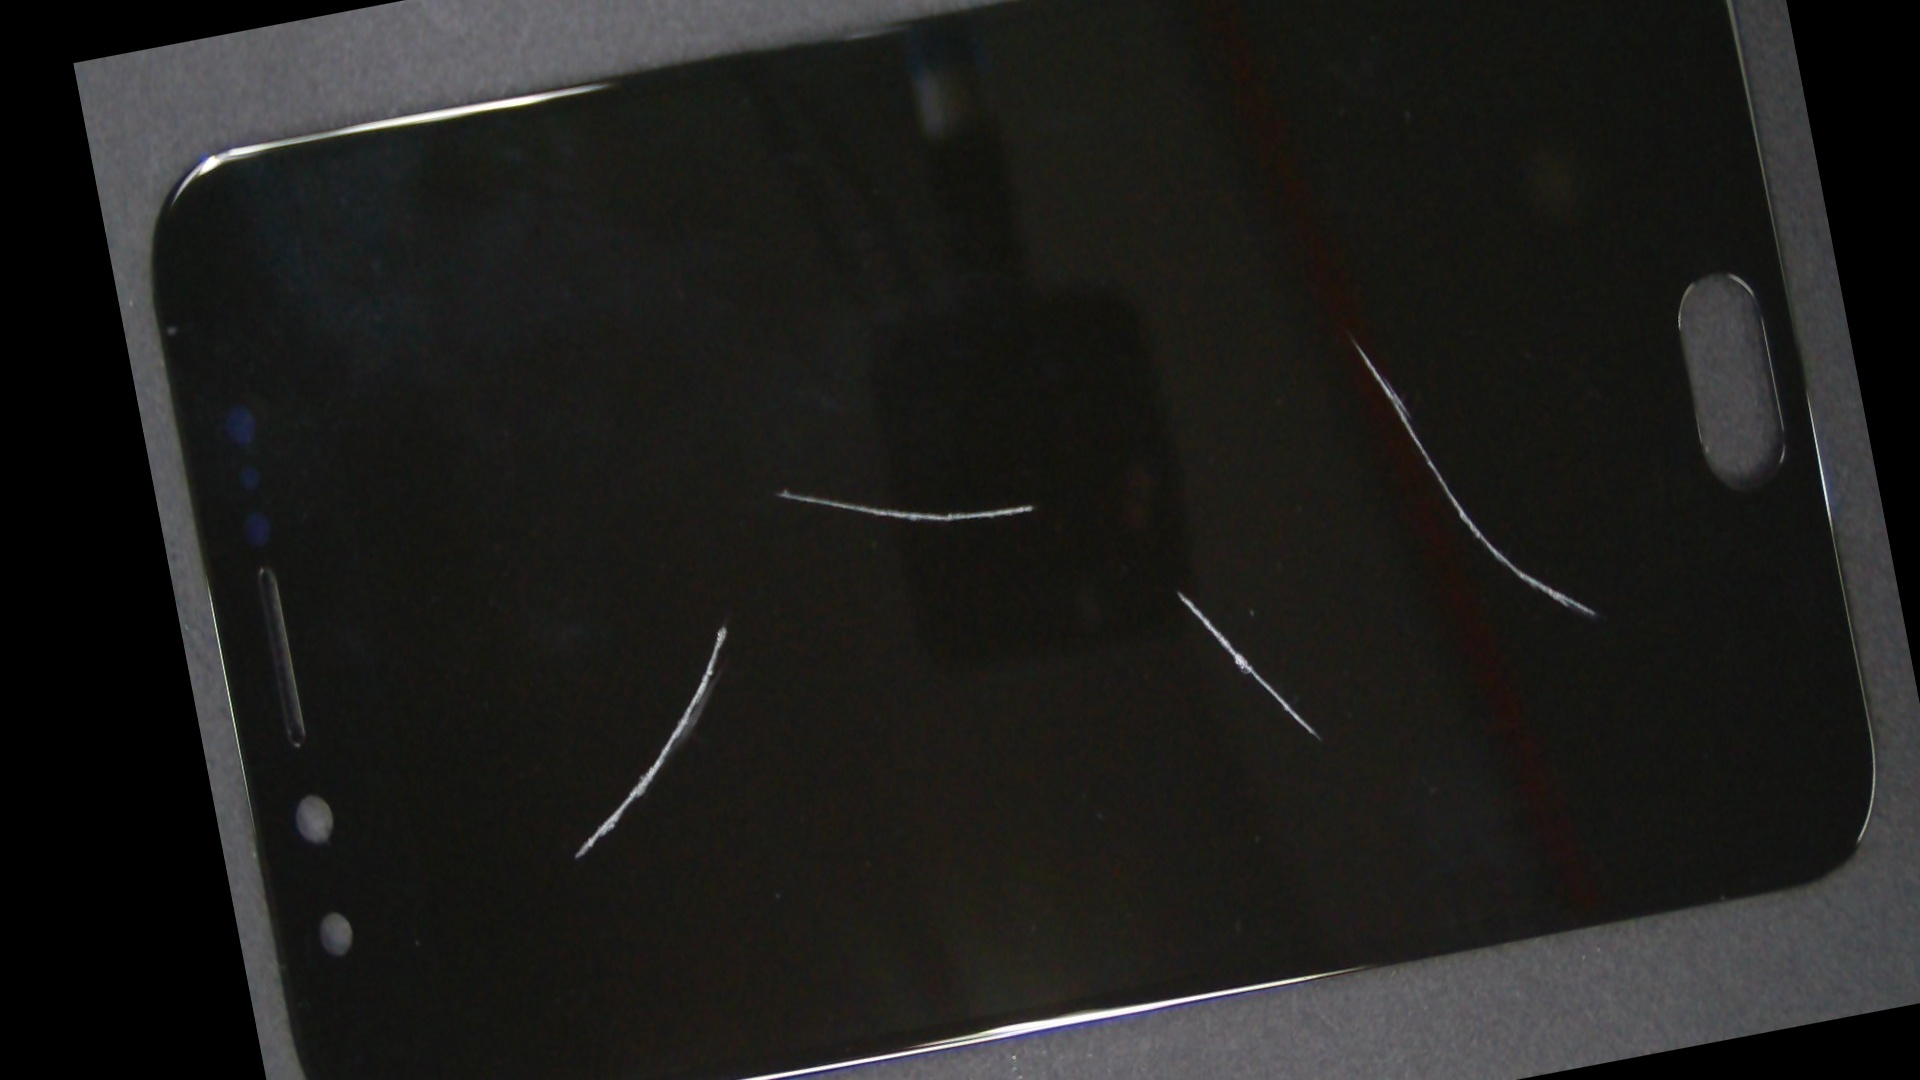oil: (626, 141, 1729, 1038), (712, 0, 1882, 705), (398, 245, 1046, 1007), (430, 160, 1142, 818)
